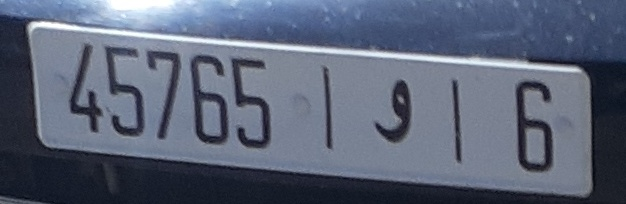4: (65, 42, 107, 135)
5: (230, 52, 276, 156), (106, 42, 150, 139)
6: (505, 76, 563, 174), (186, 50, 229, 147)
7: (141, 44, 183, 143)
waw: (368, 67, 423, 157)
